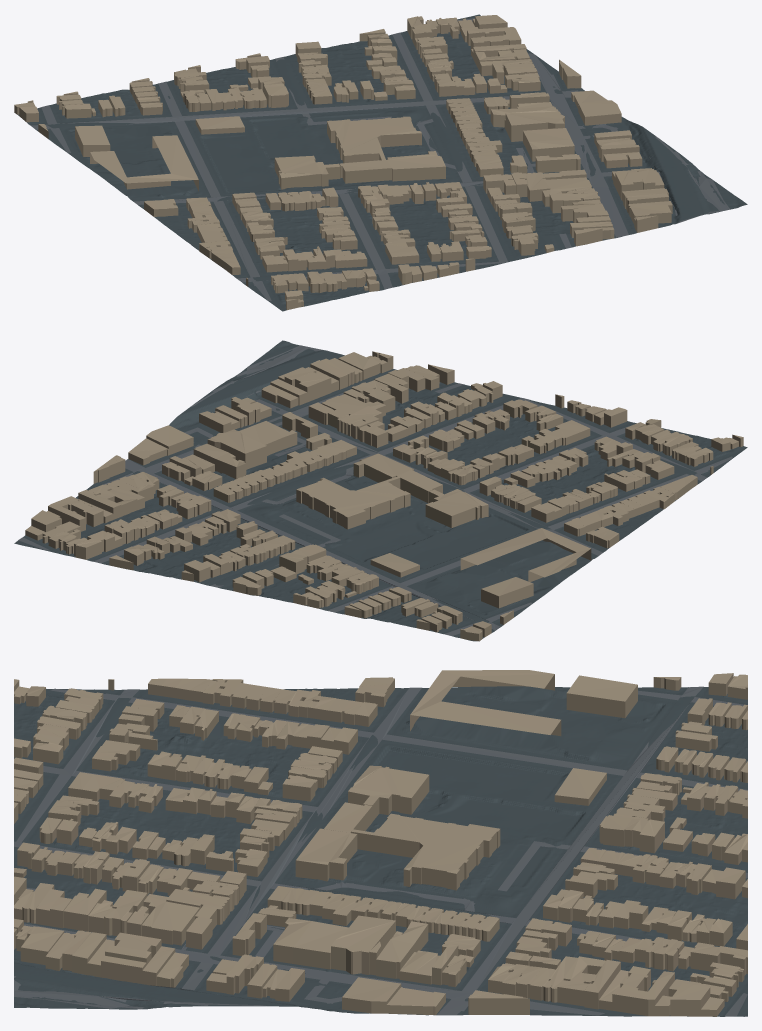
File: epsg26910-1438-10874.lod0.glb
3 views of the same model, one above another, from view 1: azimuth 30°, elevation 25°; view 2: azimuth 150°, elevation 25°; view 3: azimuth 270°, elevation 25° (orthographic). The views are drawn at different scales.
Visible parts, largest first — view 1: epsg26910-1438-10874-lod0; view 2: epsg26910-1438-10874-lod0; view 3: epsg26910-1438-10874-lod0.
Boxes of the visible parts, <box> form: epsg26910-1438-10874-lod0: <box>14,14,747,311</box>; epsg26910-1438-10874-lod0: <box>14,340,747,641</box>; epsg26910-1438-10874-lod0: <box>14,670,747,1016</box>.
Size of the model in its own units: 384 by 21.27 by 384.
